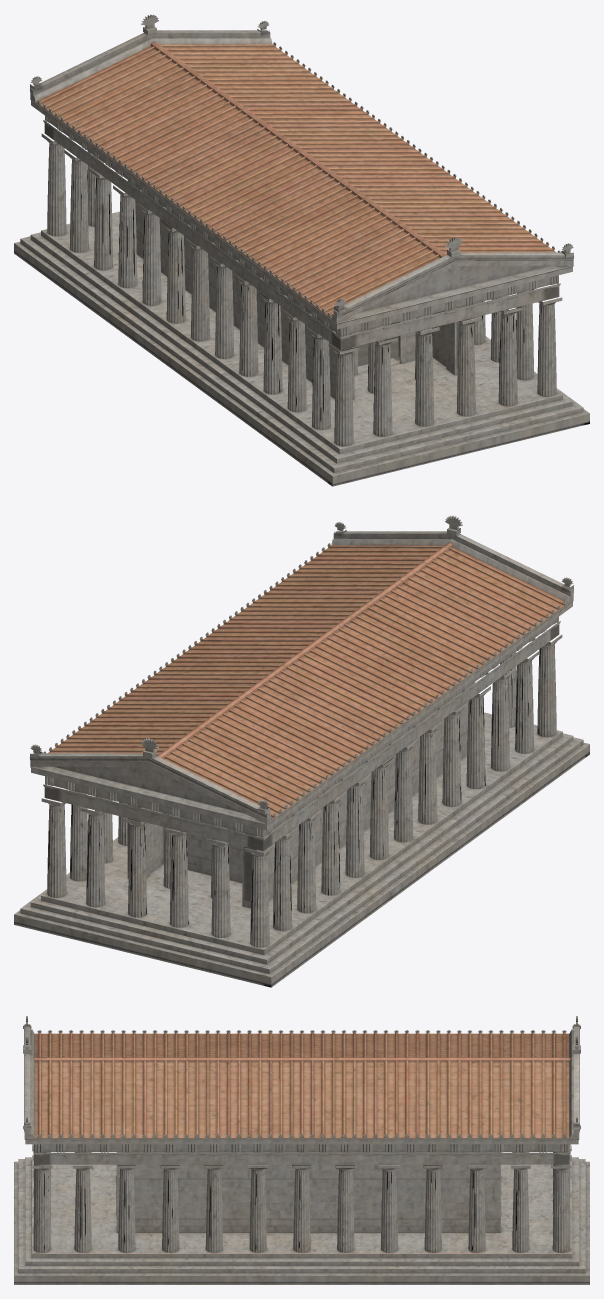
File: temple-greek.glb
The picture shows the model from 3 angles, top to bottom: view 1: azimuth 30°, elevation 25°; view 2: azimuth 150°, elevation 25°; view 3: azimuth 270°, elevation 25°; orthographic projection. The views are drawn at different scales.
Parts seen in each view (by area): view 1: lod0; view 2: lod0; view 3: lod0.
Boxes of the visible parts, left/top/right/bottom form: lod0: left=14, top=14, right=589, bottom=486; lod0: left=14, top=515, right=589, bottom=987; lod0: left=14, top=1016, right=589, bottom=1284.
Size of what is drawn, in the model's own units: 15.81 by 12.46 by 33.87.
1 material, 1 textured.
